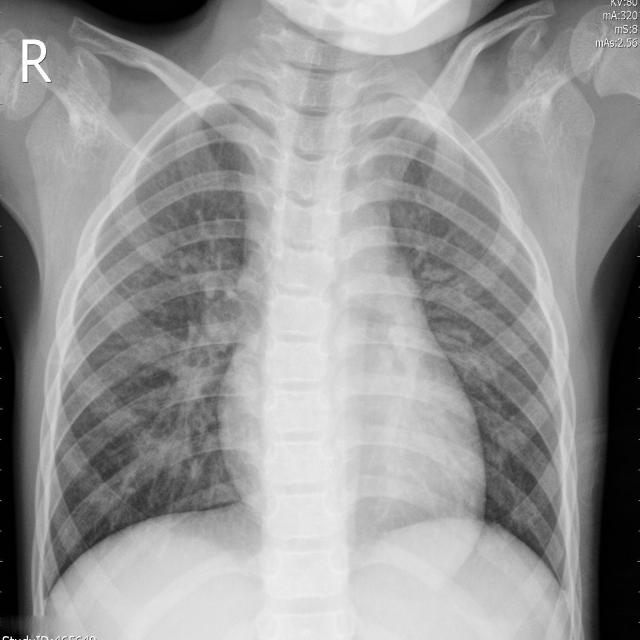low-pneumonia: (158, 241, 244, 476), (430, 273, 500, 396)
